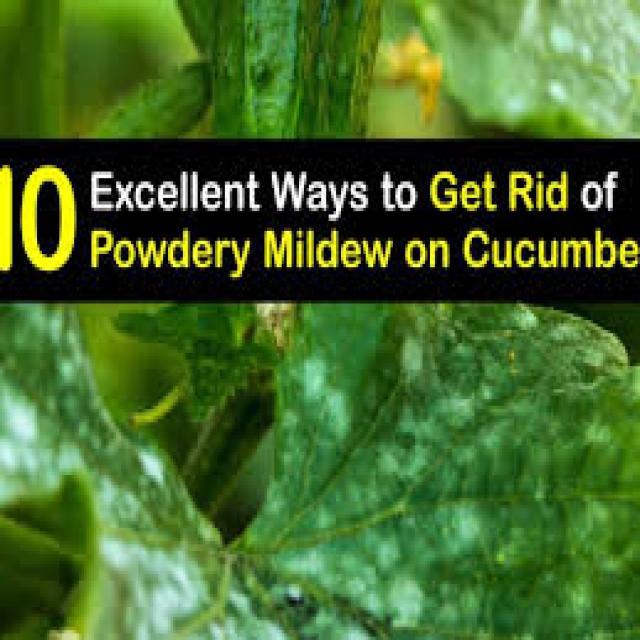powdery-mildew: (109, 536, 258, 640), (340, 478, 449, 619)
